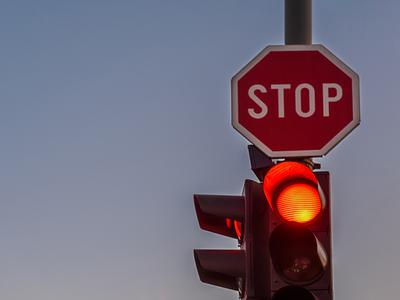stop: (239, 59, 354, 135)
trafficlight_red: (265, 168, 328, 300), (194, 182, 249, 300)
